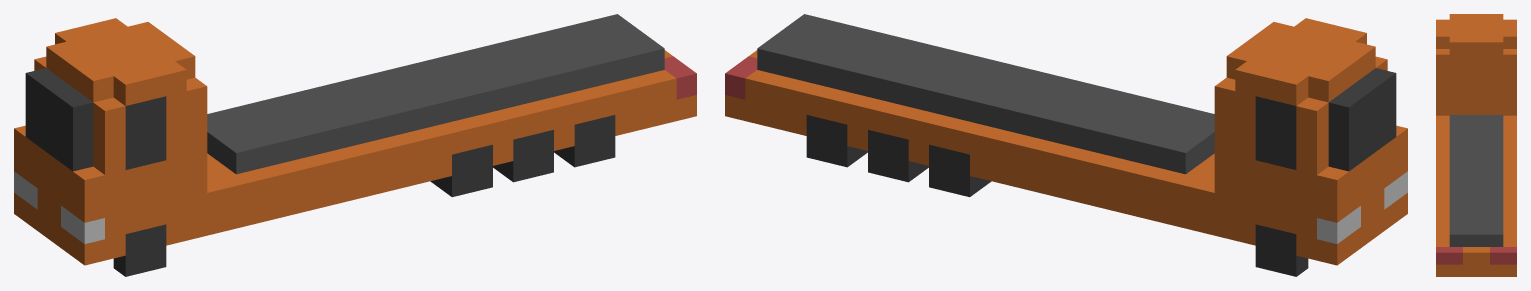
Rendered from truck-v3-orange.gltf.
The picture shows the model from 3 angles, left to right: view 1: azimuth 30°, elevation 25°; view 2: azimuth 150°, elevation 25°; view 3: azimuth 270°, elevation 25°; orthographic projection. The views are drawn at different scales.
Visible parts, largest first — view 1: model, wheels; view 2: model, wheels; view 3: model.
Part boxes in pixels (x1=…): model: x1=14, y1=14, x2=696, y2=265; wheels: x1=113, y1=115, x2=615, y2=276; model: x1=725, y1=14, x2=1407, y2=265; wheels: x1=806, y1=115, x2=1308, y2=276; model: x1=1436, y1=14, x2=1516, y2=276.
Size of the model in its own units: 3 by 0.9 by 0.6.
2 materials, 2 textured.
